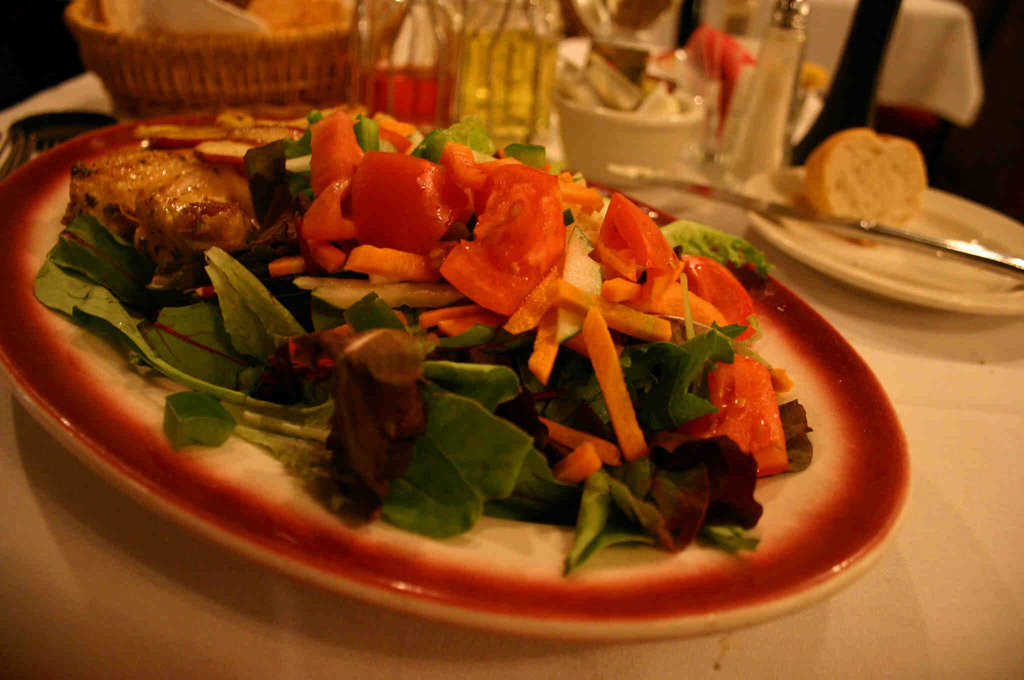salad: (31, 116, 883, 623)
